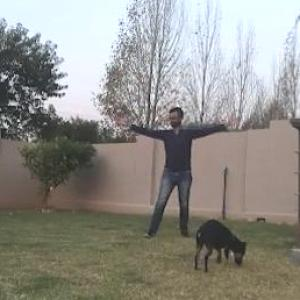takeoff: (124, 102, 252, 249)
